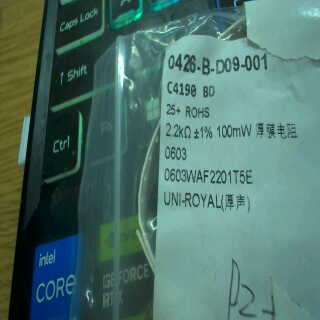2.2kR: (164, 119, 196, 143)
